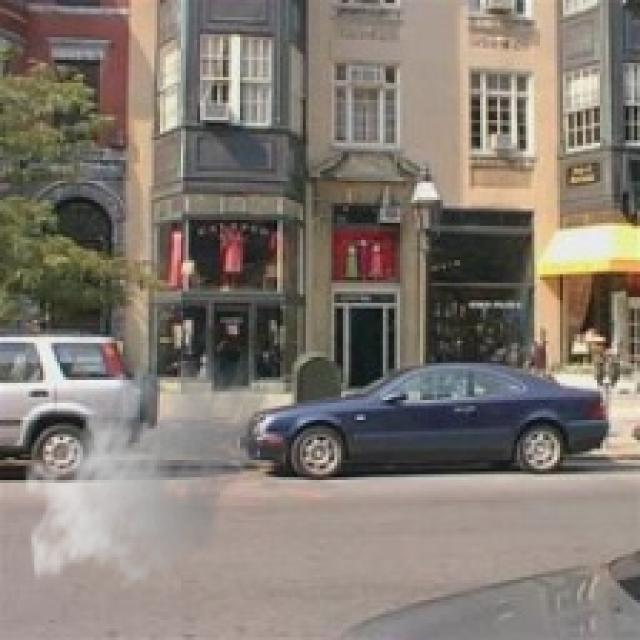Smoke: (22, 328, 272, 594)
